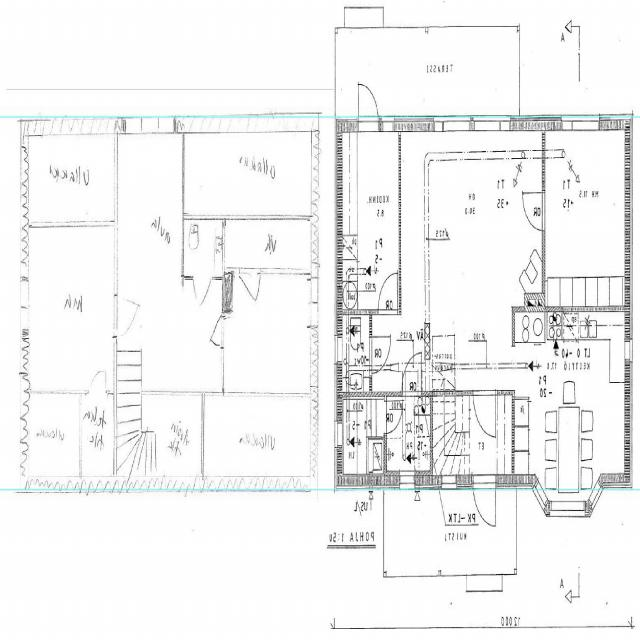door: (474, 476, 496, 531), (474, 390, 496, 438), (114, 295, 139, 337), (358, 75, 378, 127), (240, 268, 261, 315), (402, 350, 422, 395), (522, 193, 545, 232), (369, 337, 391, 373), (379, 274, 397, 314), (194, 277, 212, 317), (89, 355, 107, 393), (384, 401, 404, 434), (206, 315, 226, 348)
